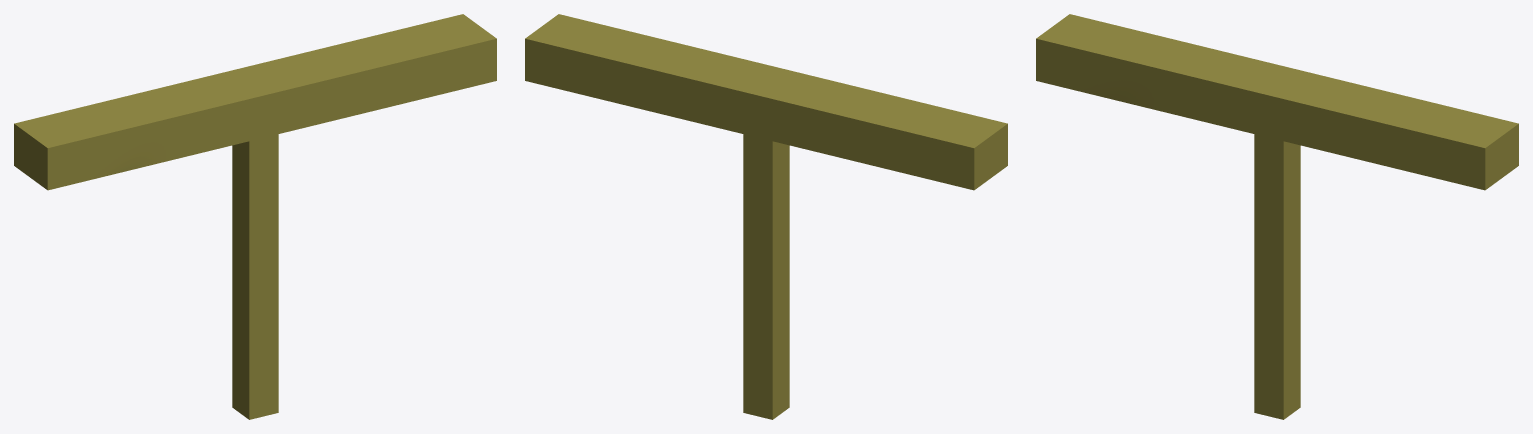
Rendered from E_Propeller.obj.
3 renders of one model, left to right at view 1: azimuth 30°, elevation 25°; view 2: azimuth 150°, elevation 25°; view 3: azimuth 330°, elevation 25°, orthographic.
Parts seen in each view (by area): view 1: 立方体.001, 立方体; view 2: 立方体.001, 立方体; view 3: 立方体.001, 立方体.
Boxes of the visible parts, bbox=[...] form: 立方体.001: bbox=[14, 14, 496, 190]; 立方体: bbox=[232, 134, 278, 419]; 立方体.001: bbox=[525, 14, 1007, 190]; 立方体: bbox=[743, 134, 789, 419]; 立方体.001: bbox=[1036, 14, 1518, 190]; 立方体: bbox=[1254, 134, 1300, 419].
Bounding box in the file's own units: 3.08 × 2.16 × 0.4.
Materials: 2 (2 with a texture image).
